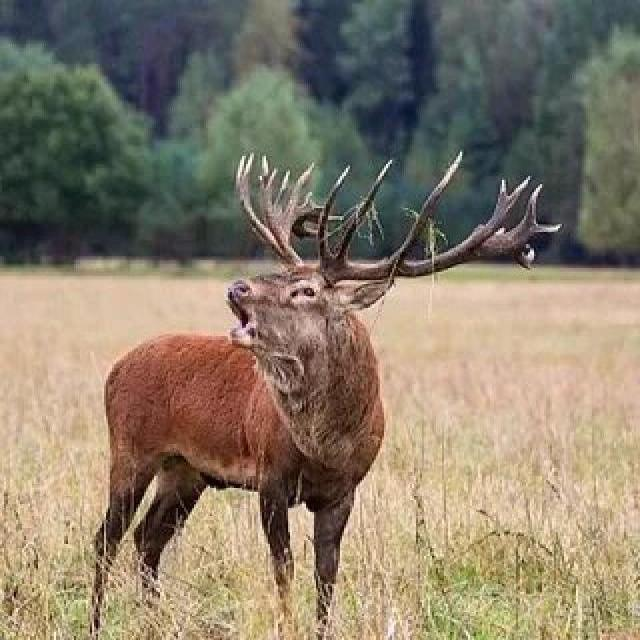deer: (8, 137, 592, 595)
